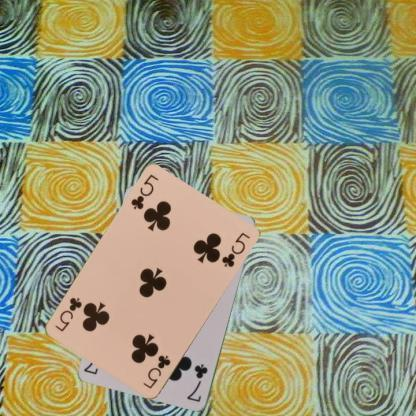5c: (128, 172, 160, 212), (140, 352, 172, 390)
7c: (184, 361, 209, 404)
